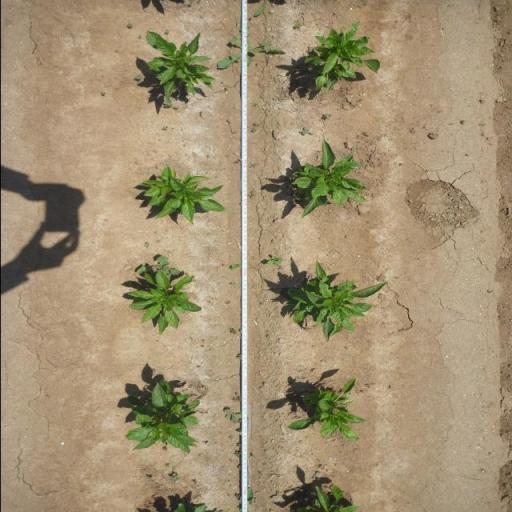plant: (280, 260, 388, 348), (282, 139, 369, 220), (121, 378, 201, 457), (304, 19, 383, 96), (134, 164, 229, 226), (282, 377, 369, 444), (144, 30, 218, 102), (122, 274, 202, 336), (294, 483, 360, 512)
weed: (215, 24, 287, 70), (134, 254, 180, 277), (262, 254, 285, 268), (222, 408, 242, 424), (297, 126, 315, 138), (232, 441, 241, 458), (218, 85, 229, 96), (162, 99, 174, 109), (168, 472, 178, 484), (246, 188, 256, 199), (230, 392, 241, 402), (229, 263, 241, 271), (132, 74, 142, 83), (293, 22, 304, 30), (162, 28, 172, 36), (144, 475, 154, 483), (232, 158, 242, 165), (191, 478, 198, 488), (229, 327, 237, 335), (322, 113, 332, 119), (126, 22, 134, 29), (143, 241, 150, 249), (248, 452, 256, 459), (197, 110, 204, 117), (224, 118, 232, 124), (248, 162, 256, 168), (236, 428, 242, 436), (251, 102, 258, 108), (161, 446, 168, 452), (161, 126, 169, 131), (224, 300, 230, 306), (236, 354, 242, 360), (228, 281, 235, 286), (99, 91, 106, 96), (172, 105, 178, 110), (164, 464, 170, 469), (234, 494, 240, 499), (236, 464, 240, 471), (250, 128, 256, 132), (253, 122, 259, 126), (150, 368, 156, 372), (228, 436, 233, 440), (232, 131, 238, 134), (205, 155, 210, 158), (225, 155, 229, 158)
